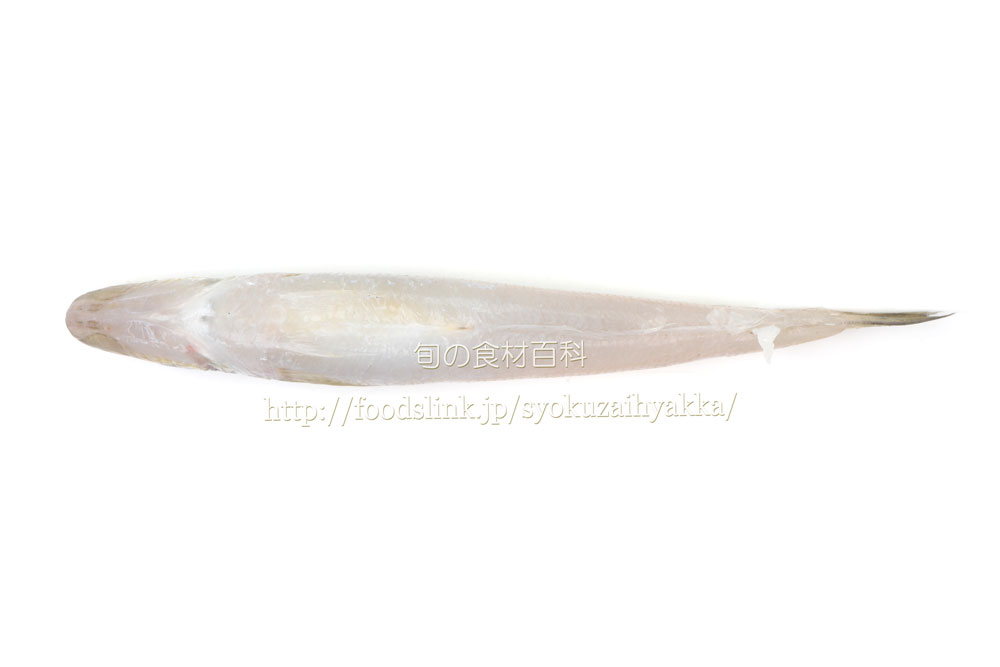kiss: (53, 254, 971, 397)
